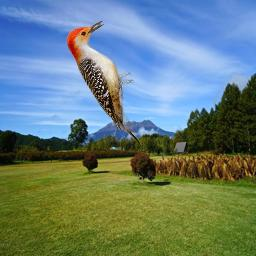Woodpecker: (66, 20, 142, 148)
